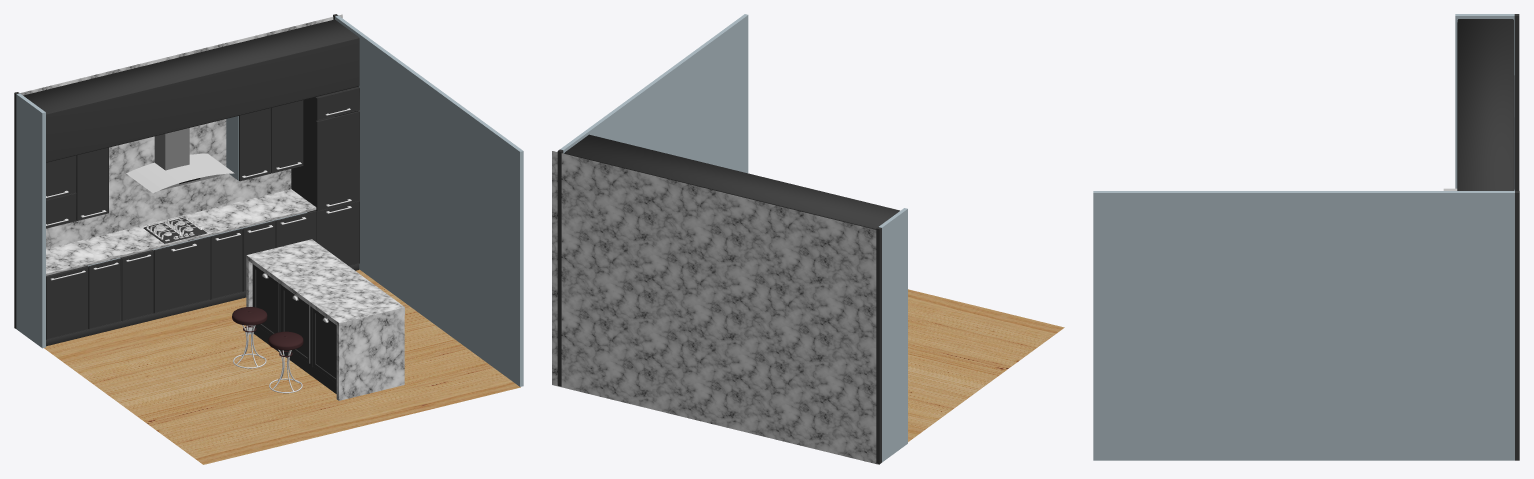
File: modern_kitchen.glb
3 views of the same model, side by side, from view 1: azimuth 30°, elevation 25°; view 2: azimuth 150°, elevation 25°; view 3: azimuth 270°, elevation 25° (orthographic). The views are drawn at different scales.
Visible parts, largest first — view 1: pPlane1, polySurface25, polySurface440, polySurfaceCounterTop, Plane.001, polySurface43, polySurface253, polySurface465, polySurface36, polySurface206, polySurface44, polySurface492 (+22 smaller); view 2: Plane.001, polySurface25, pPlane1, polySurface440, polySurface253, polySurface23, polySurface24; view 3: polySurface25, polySurface36, polySurface440, polySurface24, polySurface23, polySurface22, polySurface253.
Part boxes in pixels (x1=…): pPlane1: x1=44, y1=269, x2=520, y2=464; polySurface25: x1=379, y1=48, x2=523, y2=386; polySurface440: x1=23, y1=19, x2=359, y2=162; polySurfaceCounterTop: x1=246, y1=239, x2=404, y2=400; Plane.001: x1=14, y1=14, x2=342, y2=328; polySurface43: x1=46, y1=189, x2=316, y2=275; polySurface253: x1=16, y1=93, x2=43, y2=346; polySurface465: x1=252, y1=264, x2=336, y2=393; polySurface36: x1=335, y1=15, x2=382, y2=283; polySurface206: x1=316, y1=111, x2=359, y2=211; polySurface44: x1=154, y1=236, x2=210, y2=313; polySurface492: x1=46, y1=266, x2=88, y2=339; Plane.001: x1=552, y1=151, x2=879, y2=464; polySurface25: x1=604, y1=14, x2=748, y2=173; pPlane1: x1=908, y1=289, x2=1064, y2=441; polySurface440: x1=564, y1=134, x2=899, y2=229; polySurface253: x1=879, y1=209, x2=905, y2=462; polySurface23: x1=876, y1=227, x2=881, y2=464; polySurface24: x1=557, y1=149, x2=563, y2=386; polySurface25: x1=1093, y1=191, x2=1413, y2=460; polySurface36: x1=1413, y1=191, x2=1514, y2=460; polySurface440: x1=1457, y1=19, x2=1513, y2=190; polySurface24: x1=1515, y1=191, x2=1519, y2=460; polySurface23: x1=1514, y1=14, x2=1519, y2=190; polySurface22: x1=1455, y1=14, x2=1459, y2=188; polySurface253: x1=1460, y1=14, x2=1514, y2=190.
Bounding box in the file's own units: 4.57 × 3.14 × 4.52.
15 materials, 3 textured.
